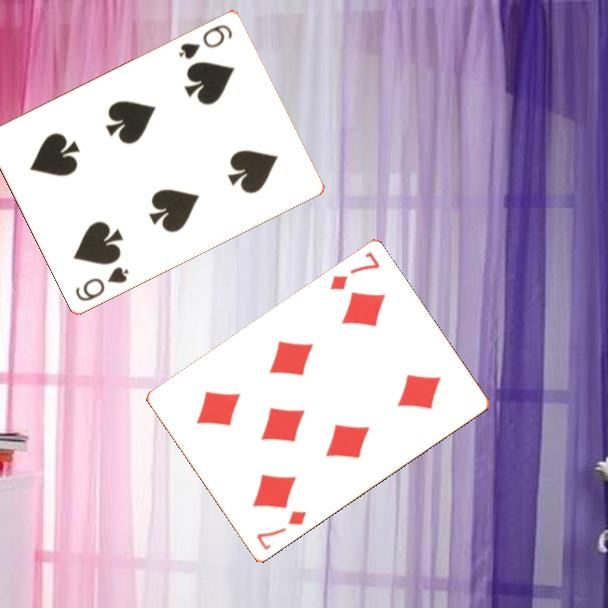d07: (253, 507, 309, 554), (326, 248, 383, 294)
s06: (174, 20, 235, 62), (72, 263, 132, 304)
